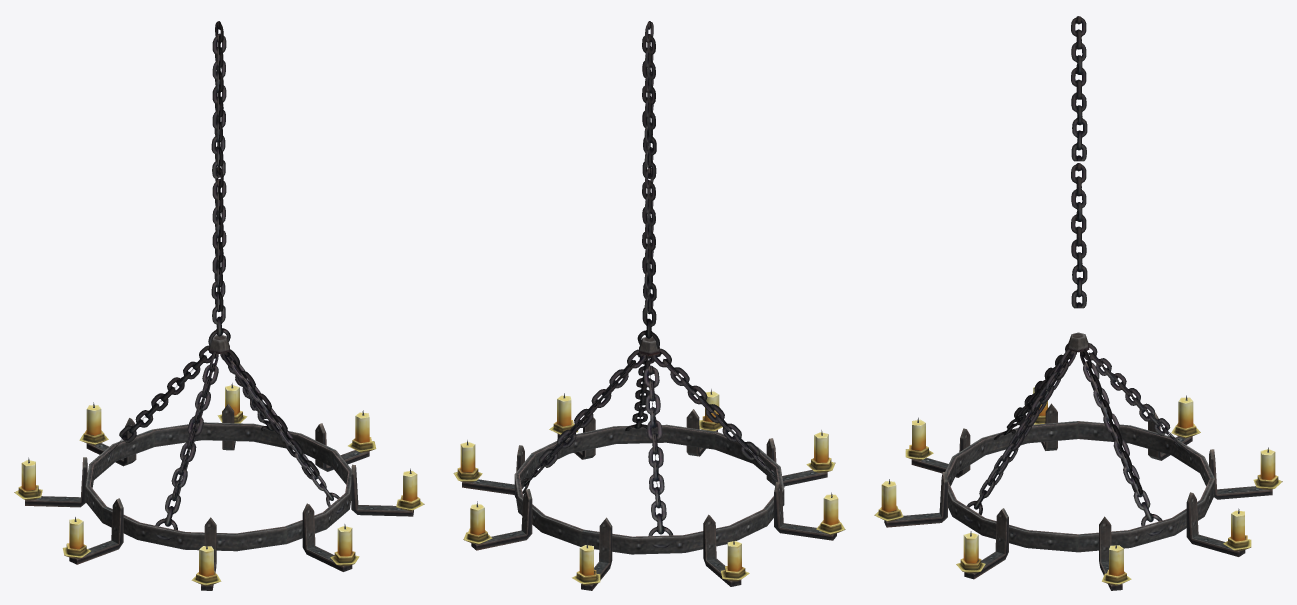
Rendered from fxdx_diaod_01.FBX.
3 views of the same model, side by side, from view 1: azimuth 30°, elevation 25°; view 2: azimuth 150°, elevation 25°; view 3: azimuth 270°, elevation 25° (orthographic).
Parts seen in each view (by area): view 1: fxdx_diaod_01; view 2: fxdx_diaod_01; view 3: fxdx_diaod_01.
Boxes of the visible parts, left/top/right/bottom form: fxdx_diaod_01: left=14, top=21, right=424, bottom=590; fxdx_diaod_01: left=453, top=21, right=845, bottom=590; fxdx_diaod_01: left=874, top=16, right=1282, bottom=590.
Bounding box in the file's own units: 733 × 979 × 733.
